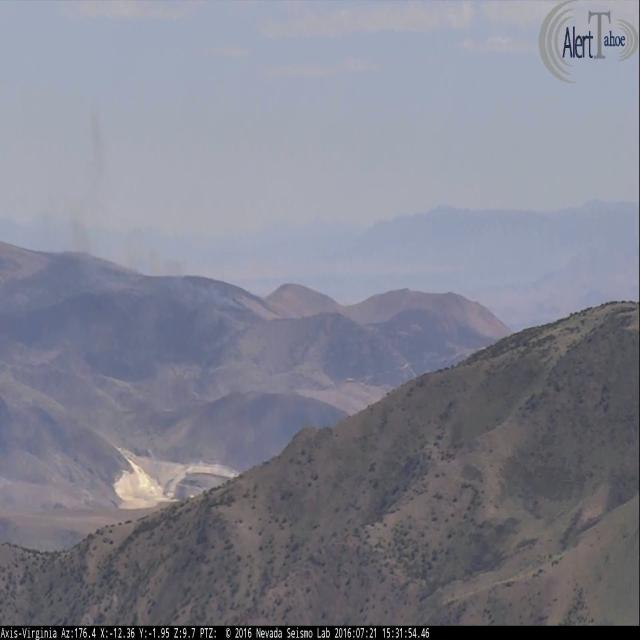smoke: (124, 236, 250, 316)
